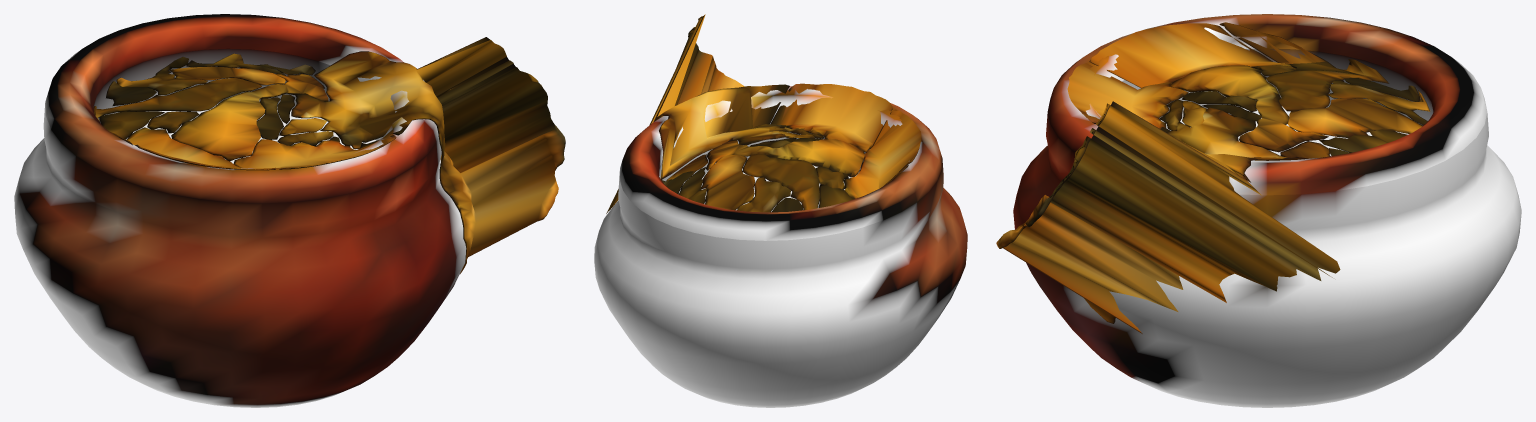
Rendered from SM_sauerkraut.fbx.
The picture shows the model from 3 angles, left to right: view 1: azimuth 30°, elevation 25°; view 2: azimuth 150°, elevation 25°; view 3: azimuth 270°, elevation 25°; orthographic projection. The views are drawn at different scales.
Parts seen in each view (by area): view 1: SM_sauerkraut; view 2: SM_sauerkraut; view 3: SM_sauerkraut.
Part boxes in pixels (bbox=[...]): SM_sauerkraut: bbox=[14, 14, 565, 407]; SM_sauerkraut: bbox=[594, 14, 967, 407]; SM_sauerkraut: bbox=[996, 14, 1521, 407].
Size of the model in its own units: 0.2113 by 0.1696 by 0.2304.
